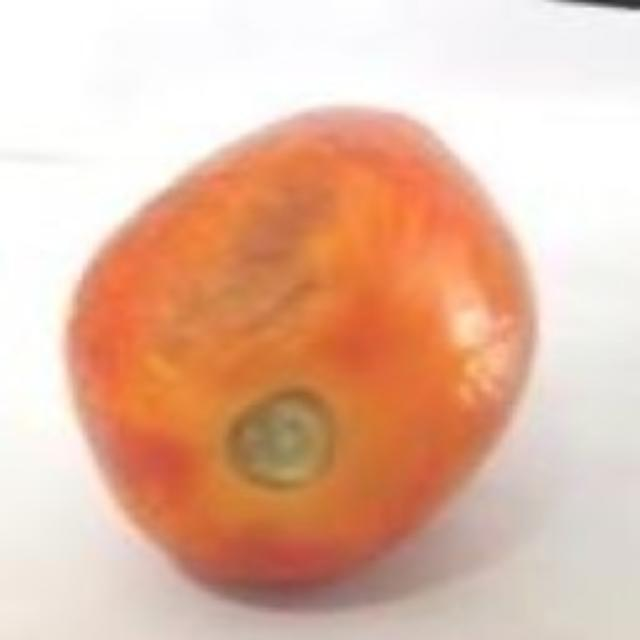defect: (62, 98, 539, 597)
